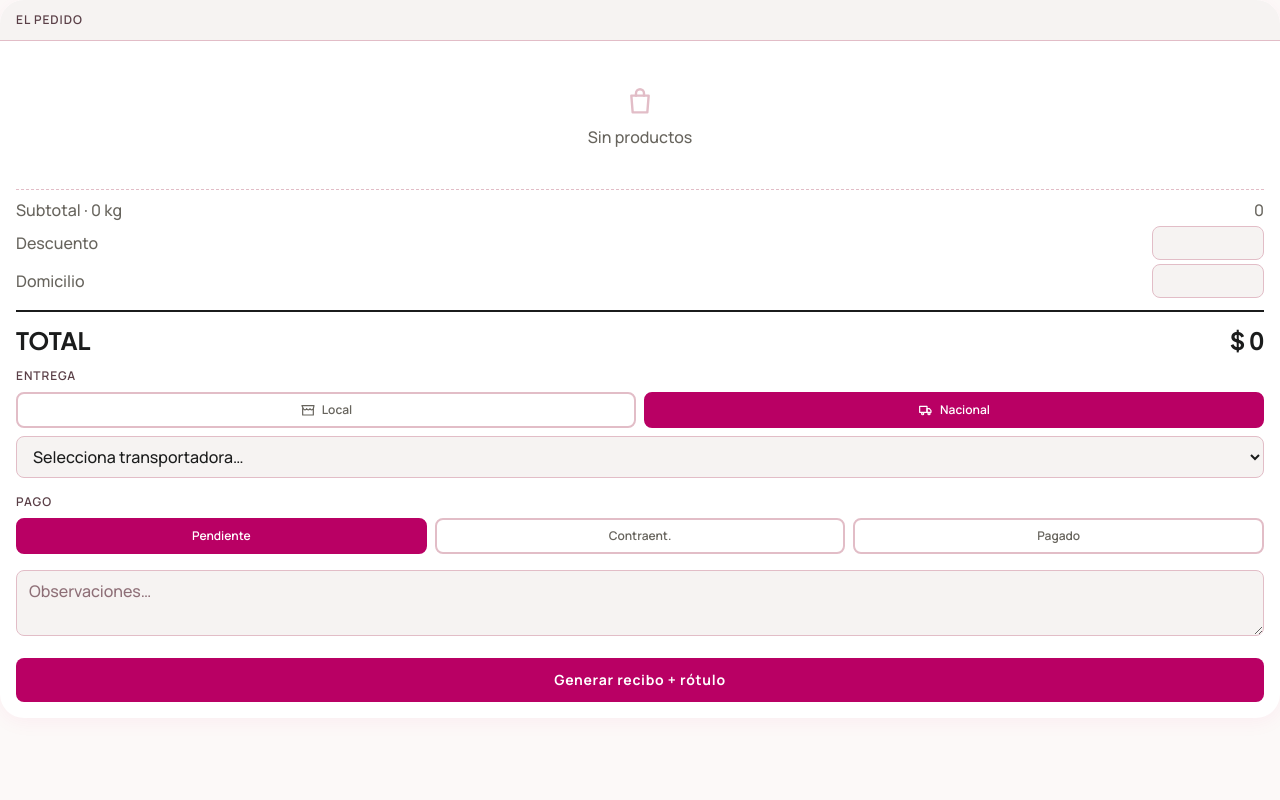
ResumenPedido — transportadora › al elegir "Otra", muestra un campo de texto libre
The image size is (1280, 800).
Select "Otra…" in the dropdown named "Transportadora" at [640, 457], box [16, 436, 1264, 478]
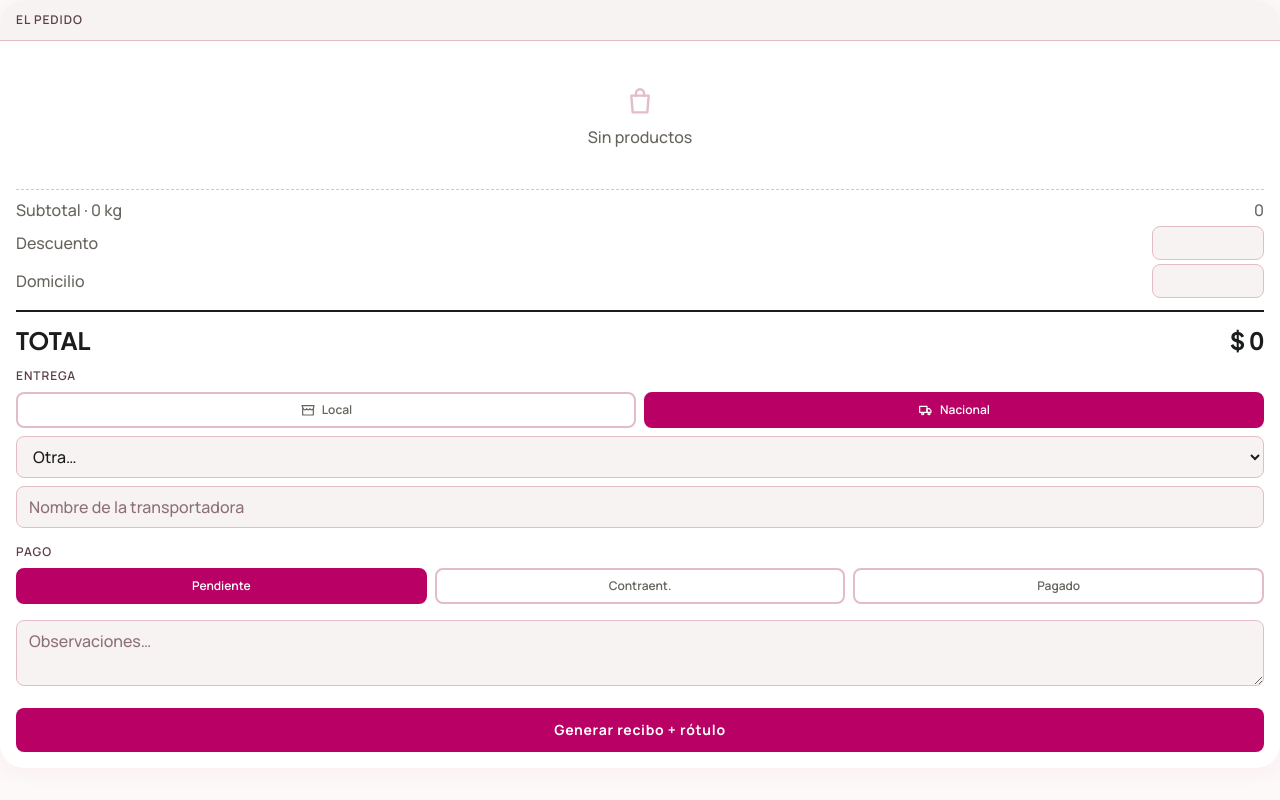
Result: the field with placeholder "Nombre de la transportadora" is shown at [16, 486, 1264, 528]
